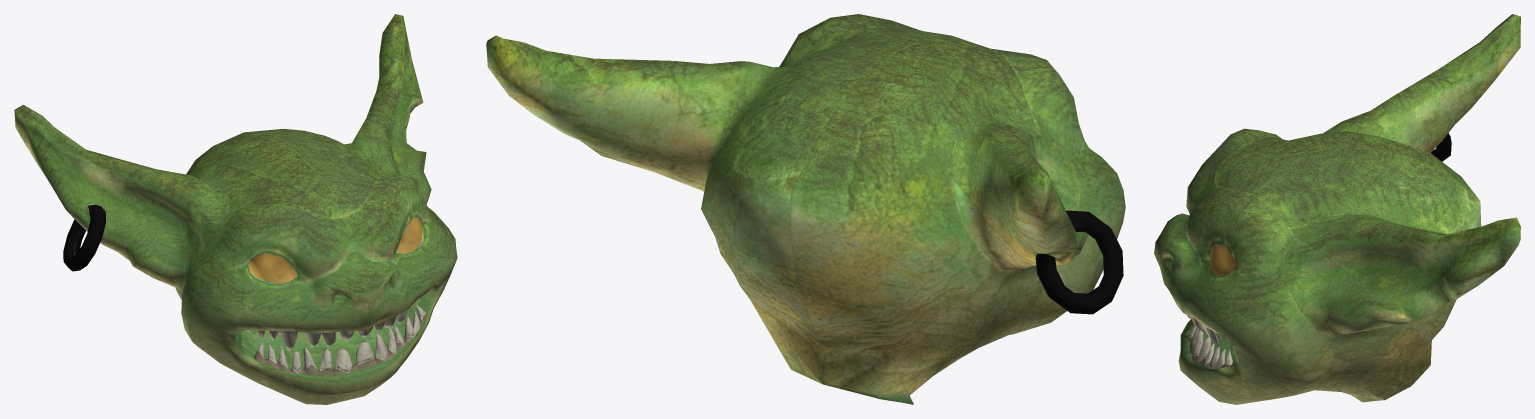
The model's file is goblin.glb.
3 views of the same model, side by side, from view 1: azimuth 30°, elevation 25°; view 2: azimuth 150°, elevation 25°; view 3: azimuth 270°, elevation 25° (orthographic). The views are drawn at different scales.
Parts seen in each view (by area): view 1: Head; view 2: Head; view 3: Head.
Part boxes in pixels (x1,y1,x2,y2): Head: (14,14,457,404); Head: (486,14,1125,404); Head: (1154,14,1520,404).
Bounding box in the file's own units: 246 × 149 × 180.
Materials: 2 (2 with a texture image).
